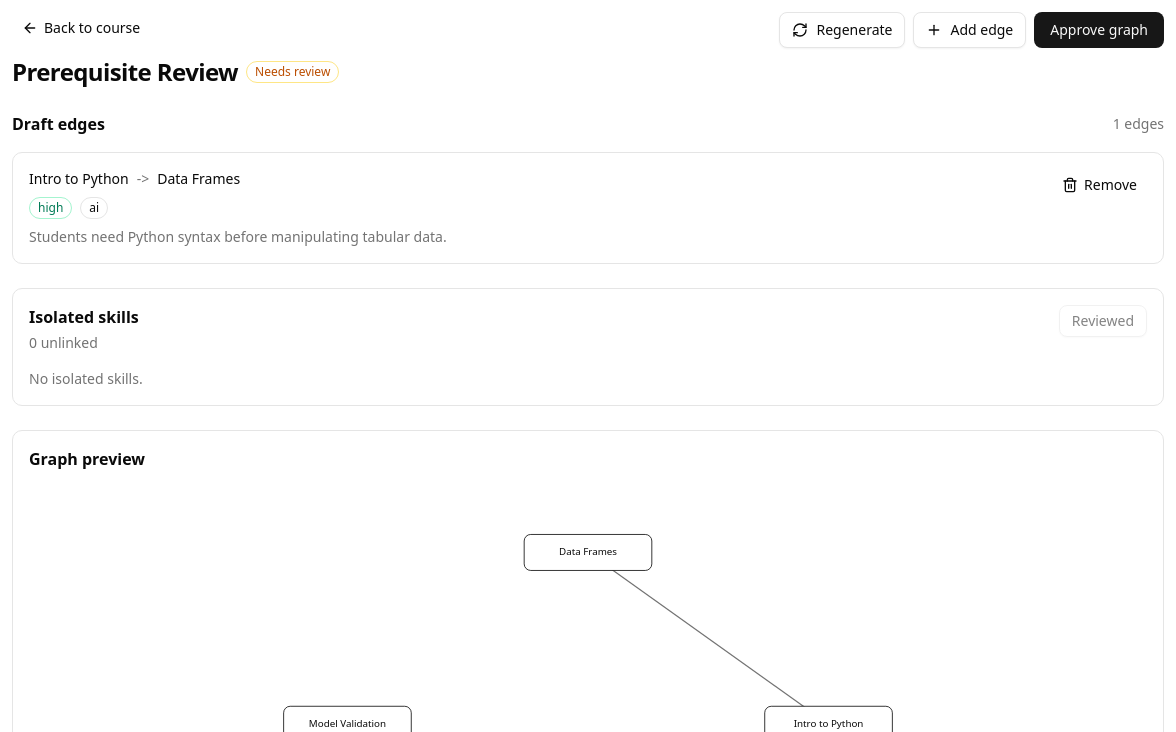
Test: PrerequisiteReviewPage › requires a fresh isolated-skill review when removing an edge creates isolated skills
The image size is (1176, 732).
Expected: the heading "Prerequisite Review" is shown, left=12, top=56, right=238, bottom=88
Expected: the button "Approve graph" is enabled, left=1034, top=12, right=1164, bottom=48
Click the button with aria-label "Remove Intro to Python prerequisite": {"x": 1100, "y": 185} left=1052, top=169, right=1147, bottom=201
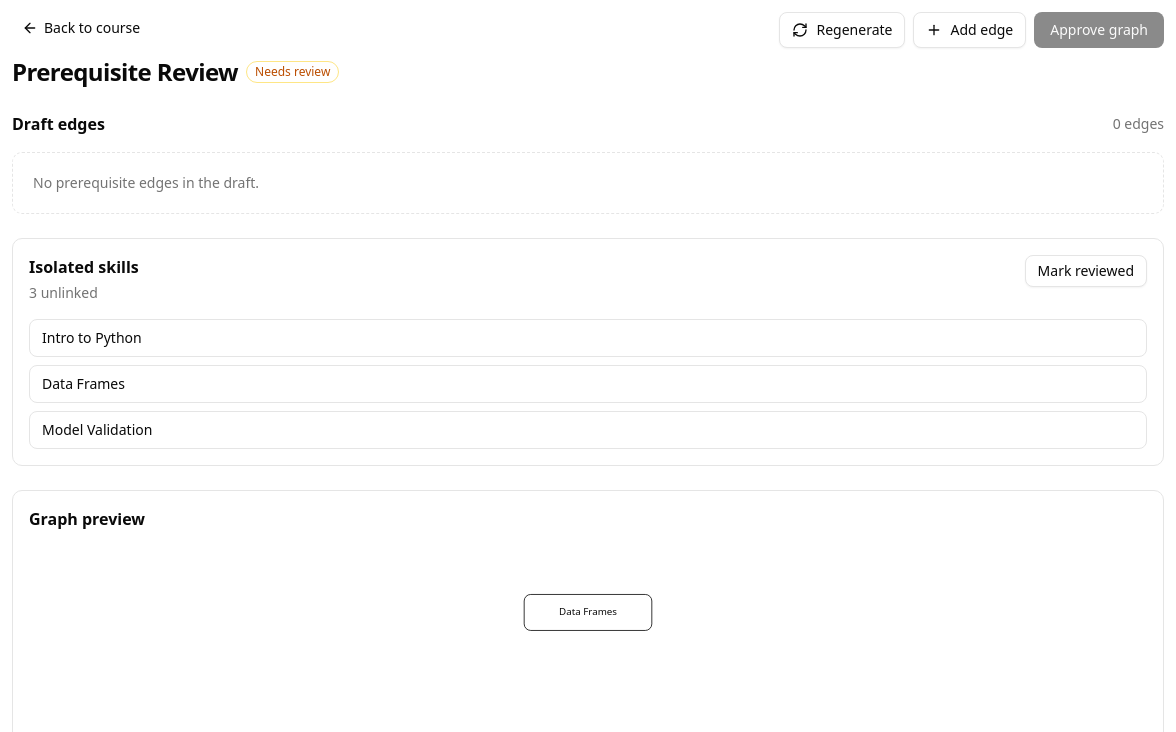
Now the button "Approve graph" is disabled, box left=1034, top=12, right=1164, bottom=48
Now the button "Mark reviewed" is enabled, box left=1025, top=255, right=1147, bottom=287
